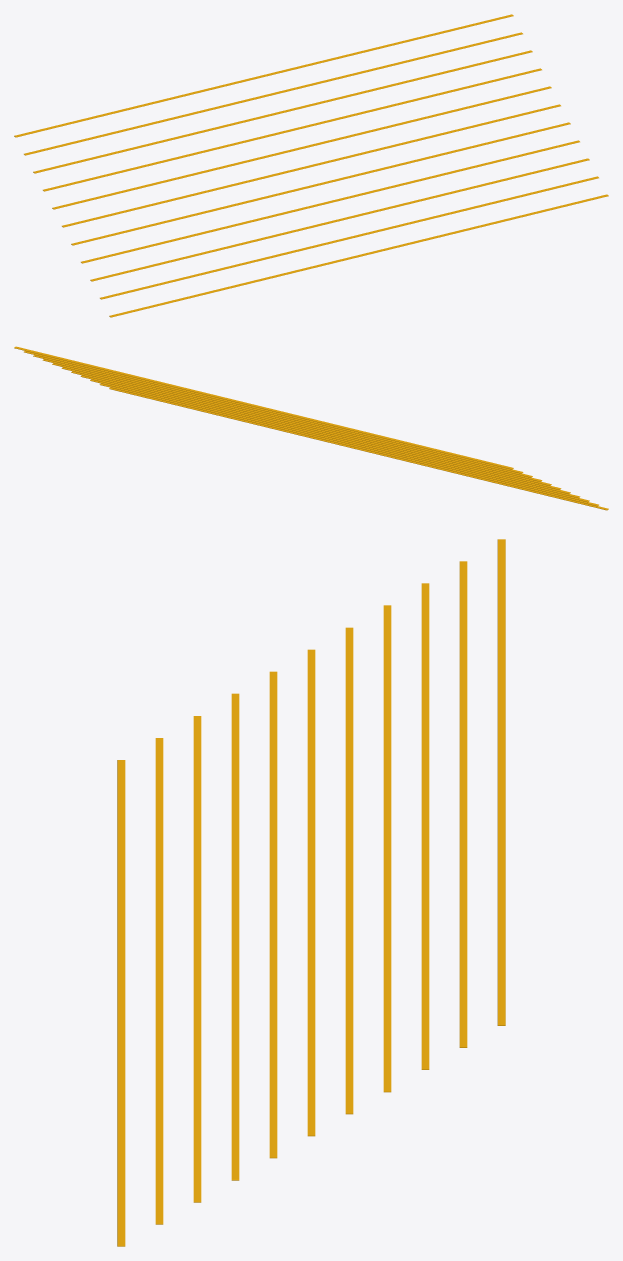
The model's file is gteki_ik_stair_n11_r173_t270_w8182_nosing.glb.
3 renders of one model, top to bottom at view 1: azimuth 30°, elevation 25°; view 2: azimuth 150°, elevation 25°; view 3: azimuth 270°, elevation 25°, orthographic. The views are drawn at different scales.
Visible parts, largest first — view 1: VIS_nosings; view 2: VIS_nosings; view 3: VIS_nosings.
Part boxes in pixels (x1,y1,x2,y2): VIS_nosings: (14,14,608,317); VIS_nosings: (14,346,608,510); VIS_nosings: (117,539,505,1246).
Size of the model in its own units: 8.17 by 1.74 by 2.76.
